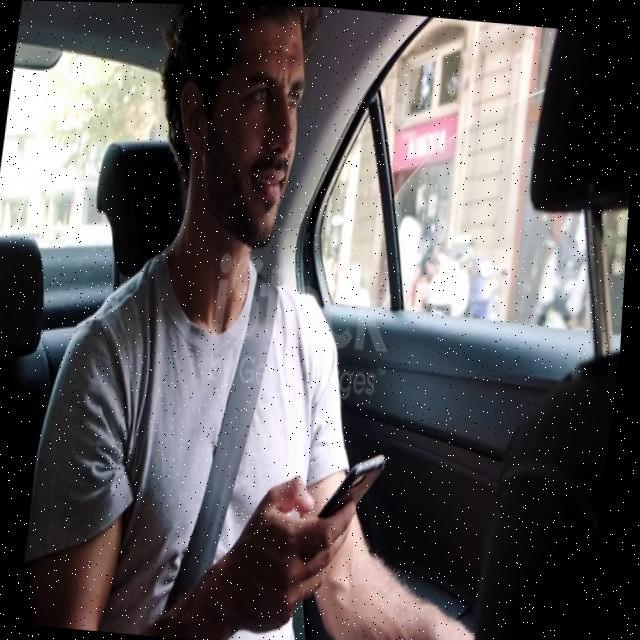PhoneCall: (321, 444, 393, 545)
